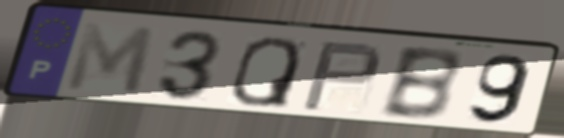3: (152, 30, 225, 103)
9: (466, 52, 533, 126)
B: (376, 46, 464, 123)
M: (62, 20, 158, 99)
P: (297, 40, 385, 114)
Q: (228, 35, 304, 110)
